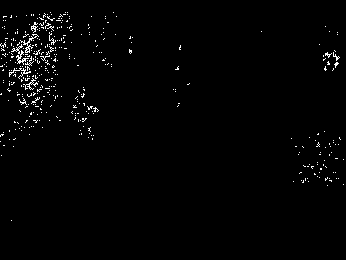person: (70, 89, 97, 144)
